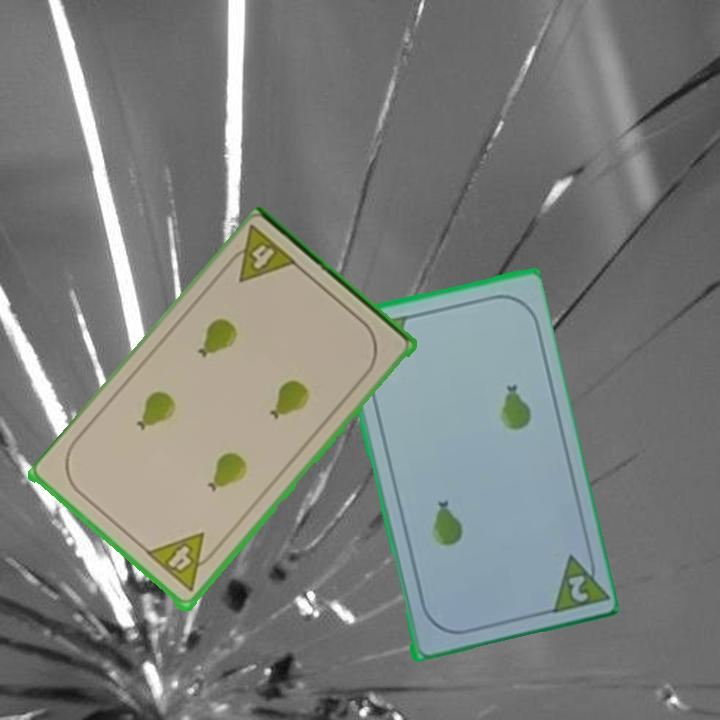2p: (544, 545, 608, 616)
4p: (219, 222, 302, 287), (144, 529, 222, 596)
